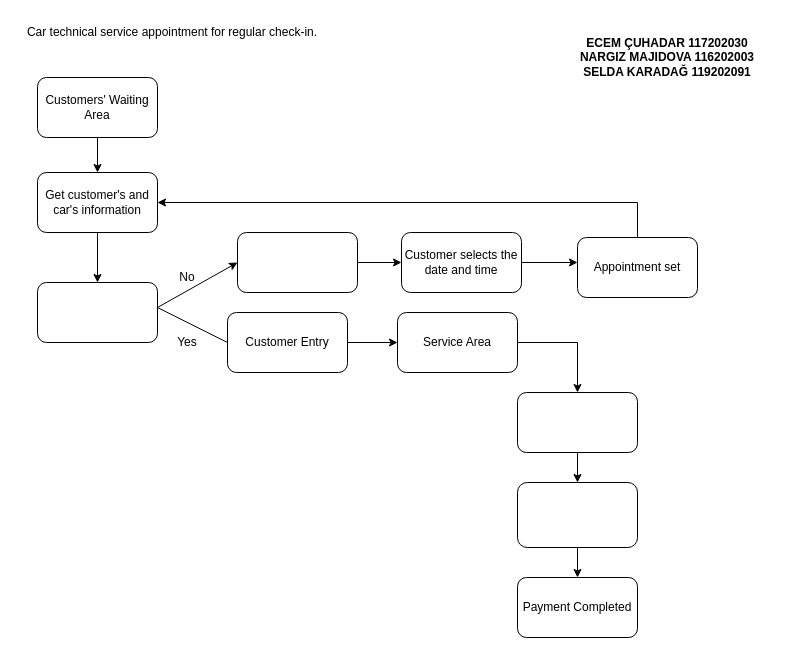
The diagram is 794 pixels wide and 655 high, and some of its shapes have lost their labels. The centre of each missing label's shape, as x and y in pixels:
"Do customer have an appointment?" belongs at [97,312].
"Get customer's Card ID" belongs at [577,515].
"Last check before the payment" belongs at [577,422].
"Schedule an appointment" belongs at [297,262].
